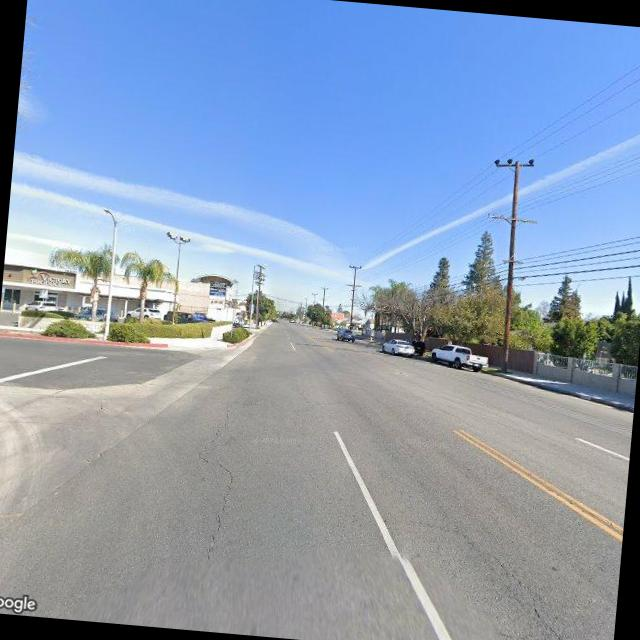pothole: (432, 518, 550, 638), (188, 381, 251, 562)
